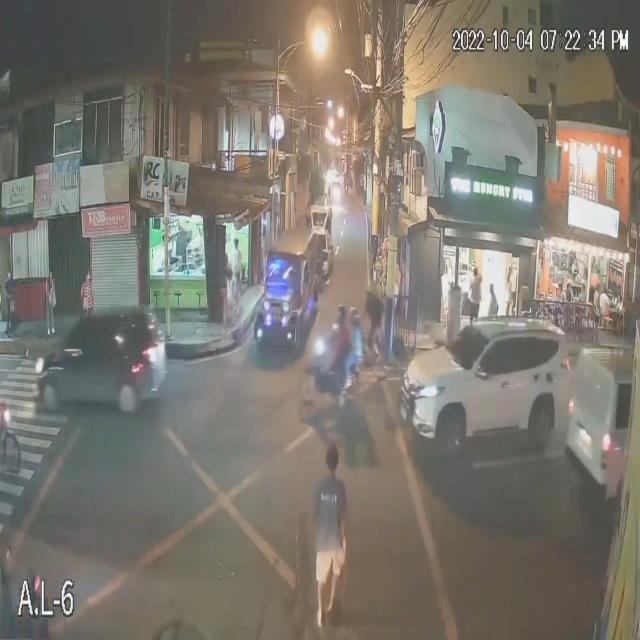Full-Faced: (343, 302, 360, 328), (332, 305, 345, 324)
